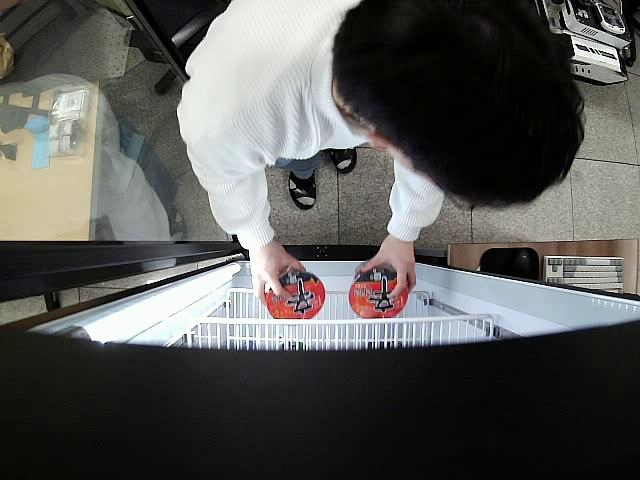00_hand: (362, 239, 417, 296), (251, 249, 306, 298)
01_shinRamen_L: (264, 266, 326, 320), (349, 264, 409, 319)
